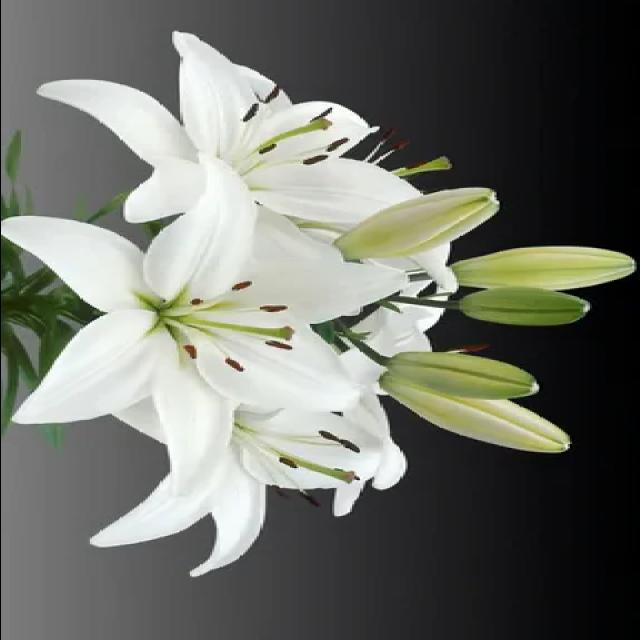lily: (17, 164, 390, 484)
